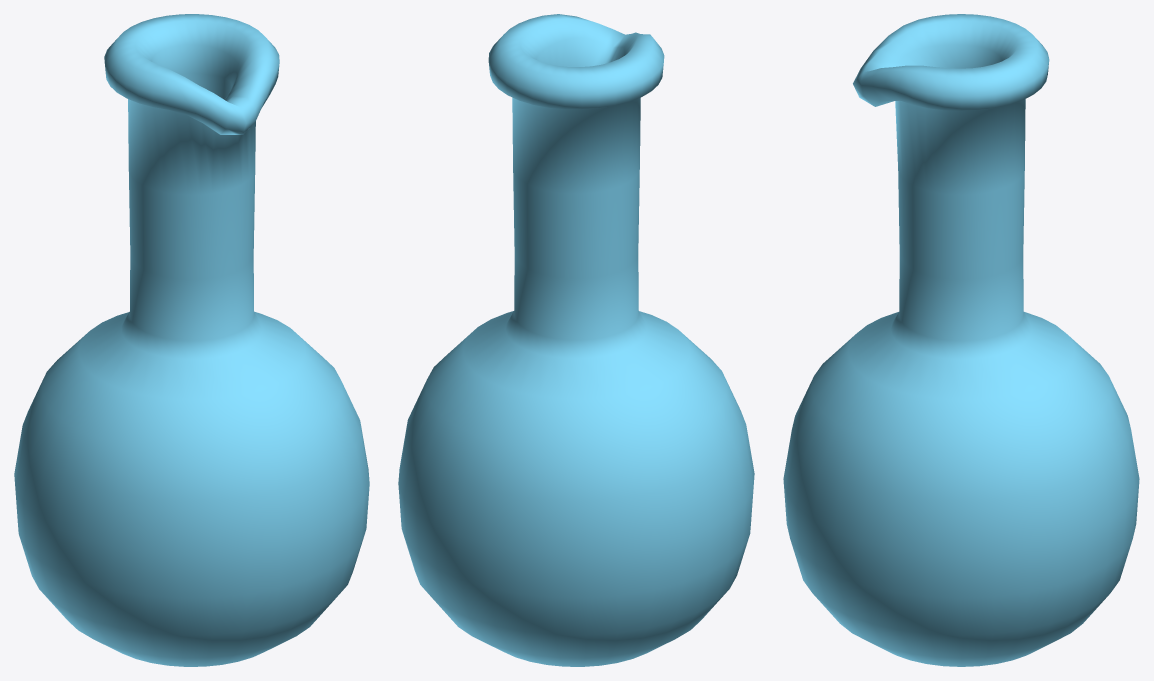
The model's file is Flask, Round Bottom, Long Neck, Spout.fbx.
3 views of the same model, side by side, from view 1: azimuth 30°, elevation 25°; view 2: azimuth 150°, elevation 25°; view 3: azimuth 270°, elevation 25° (orthographic).
Visible parts, largest first — view 1: Flask, Round Bottom, Long Neck, Spout; view 2: Flask, Round Bottom, Long Neck, Spout; view 3: Flask, Round Bottom, Long Neck, Spout.
Boxes of the visible parts, box(x1,y1,x2,y2) form: Flask, Round Bottom, Long Neck, Spout: box(14, 14, 369, 666); Flask, Round Bottom, Long Neck, Spout: box(398, 14, 754, 666); Flask, Round Bottom, Long Neck, Spout: box(783, 14, 1139, 666).
Bounding box in the file's own units: 0.4439 × 0.8272 × 0.4439.
